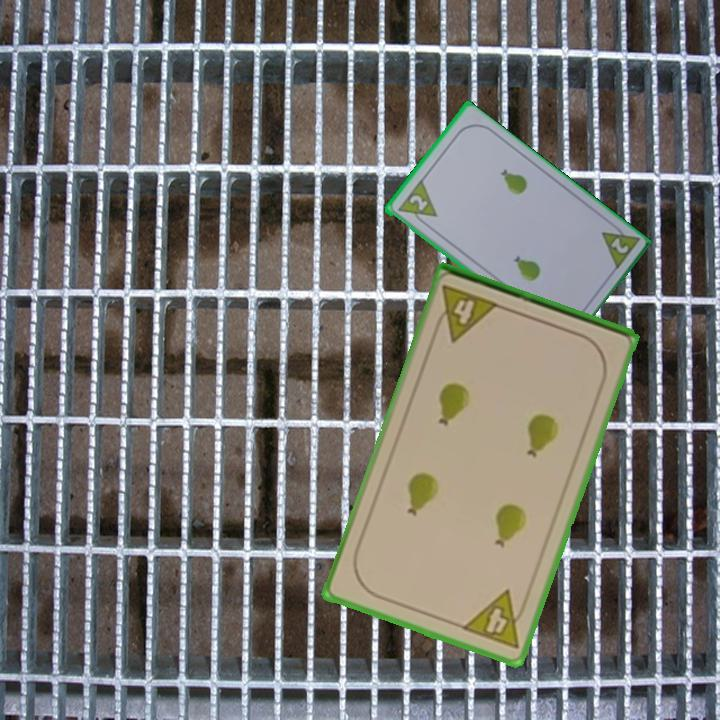2p: (405, 191, 430, 214), (607, 234, 631, 257)
4p: (458, 586, 532, 653), (430, 281, 502, 345)
